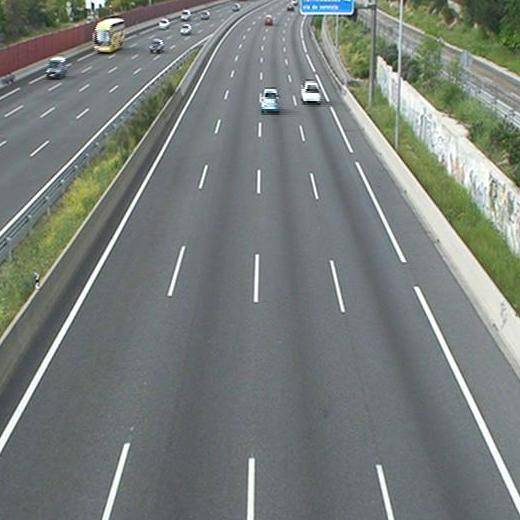car: (300, 81, 321, 102), (260, 89, 280, 111), (263, 15, 272, 24)
